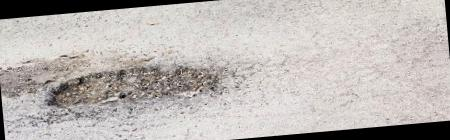pothole: (20, 45, 259, 140)
